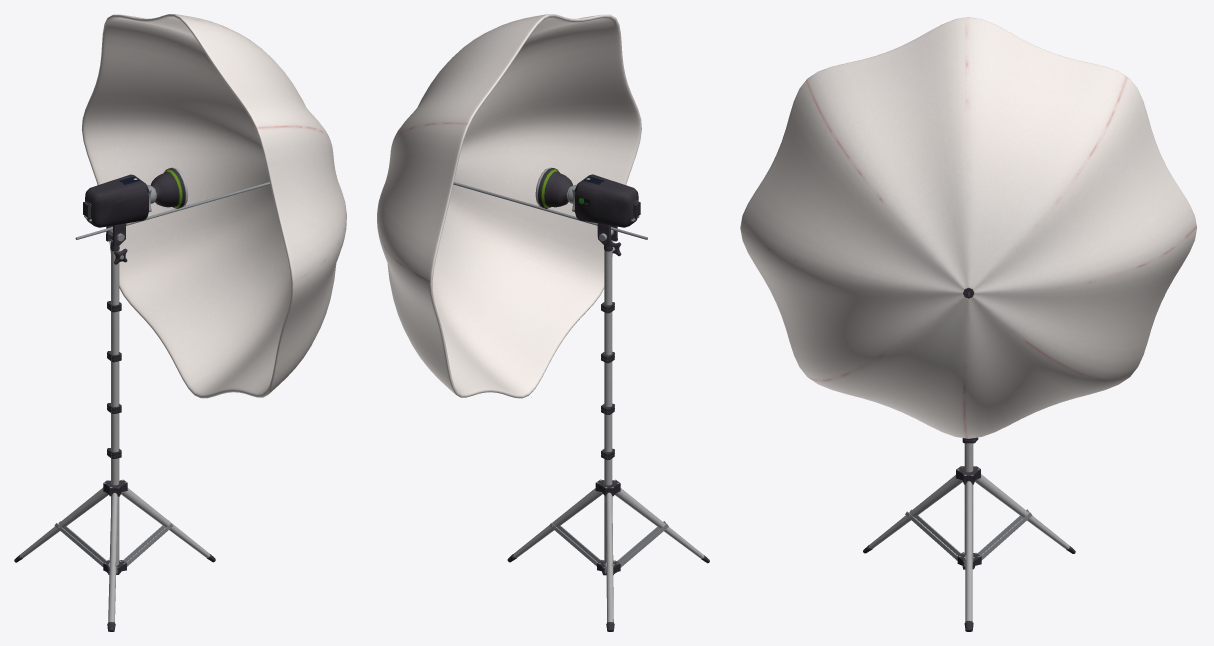
Rendered from LightUmbrella__01_Lit_straight.fbx.
The picture shows the model from 3 angles, left to right: view 1: azimuth 30°, elevation 25°; view 2: azimuth 150°, elevation 25°; view 3: azimuth 270°, elevation 25°; orthographic projection. The views are drawn at different scales.
Visible parts, largest first — view 1: Cylinder.003; view 2: Cylinder.003; view 3: Cylinder.003.
Boxes of the visible parts, left/top/right/bottom form: Cylinder.003: left=14, top=14, right=346, bottom=631; Cylinder.003: left=377, top=14, right=709, bottom=631; Cylinder.003: left=740, top=17, right=1196, bottom=631.
Size of the model in its own units: 789 by 1543 by 1076.
